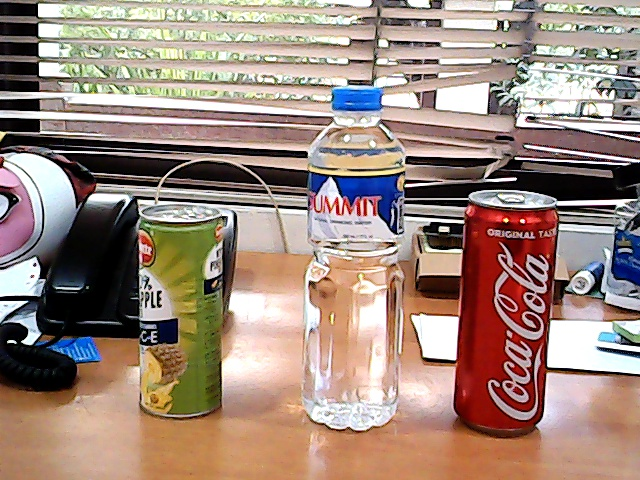Cola: (441, 177, 576, 450)
Pine Juice: (128, 192, 244, 435)
Summit Water: (289, 78, 431, 448)
